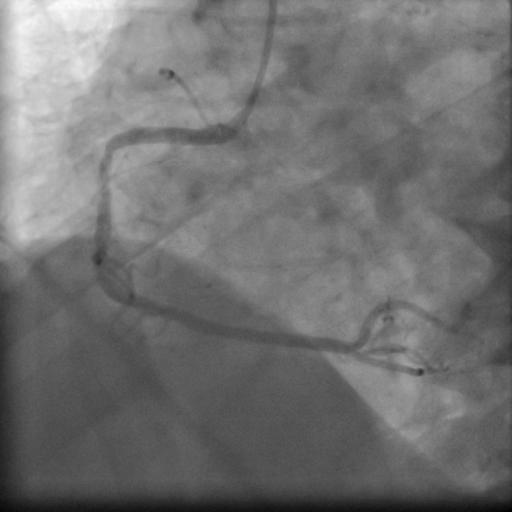Stenosis: (86, 148, 116, 266)
